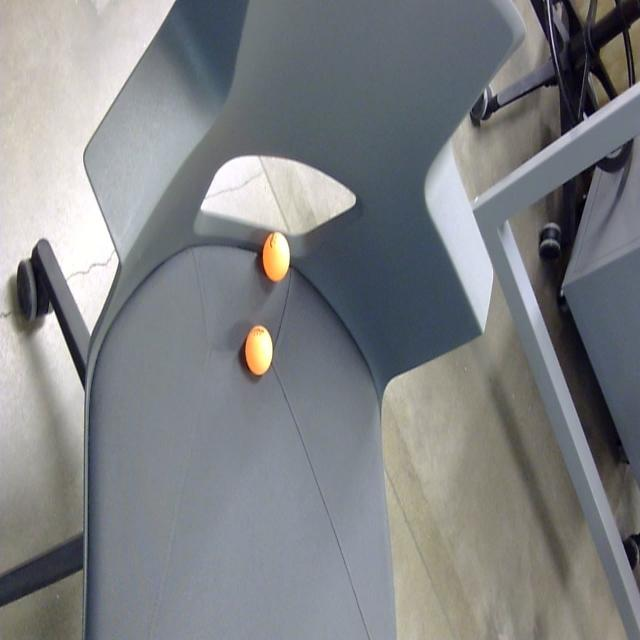ball: (244, 323, 273, 378), (261, 232, 291, 284)
